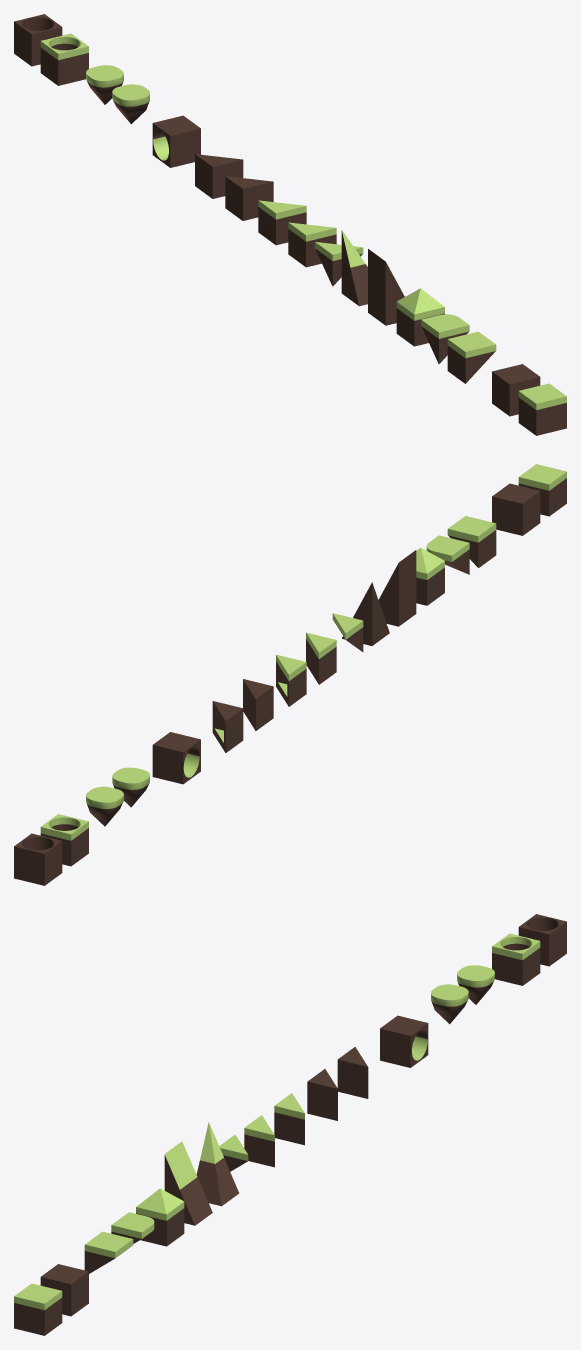
File: Tiles 02.dae
3 views of the same model, one above another, from view 1: azimuth 30°, elevation 25°; view 2: azimuth 150°, elevation 25°; view 3: azimuth 330°, elevation 25° (orthographic).
Parts seen in each view (by area): view 1: 01 Ground Base -col, 13 Ground Hole -col, 10 Ground Block Hollow -col, 05 Wall Slanted -col, 02 Ground Edge -col, 04 Ground Spike -col, 09 Ground Triangle Block -col, 01b Ground Block -col, 14 Ground Block Hole -col, 09b Ground Triangle Block Hollow -col, 09b Ground Triangle Hollow -col.001, 08 Ground Trinagle 2 -col (+5 smaller); view 2: 14 Ground Block Hole -col, 10 Ground Block Hollow -col, 01b Ground Block -col, 05 Wall Slanted -col, 01 Ground Base -col, 13 Ground Hole -col, 02 Ground Edge -col, 04 Ground Spike -col, 09b Ground Triangle Block Hollow -col, 08 Ground Trinagle 2 -col, 09 Ground Triangle Block -col, 09b Ground Triangle Hollow -col.001 (+5 smaller); view 3: 05 Wall Slanted -col, 01 Ground Base -col, 10 Ground Block Hollow -col, 13 Ground Hole -col, 06 Wall Slanted Corner -col, 04 Ground Spike -col, 01b Ground Block -col, 14 Ground Block Hole -col, 09b Ground Triangle Block Hollow -col, 09 Ground Triangle Block -col, 09b Ground Triangle Hollow -col.001, 02 Ground Edge -col (+5 smaller).
Part boxes in pixels (<box>): 01 Ground Base -col: <box>518,383,566,435</box>; 13 Ground Hole -col: <box>40,33,88,85</box>; 10 Ground Block Hollow -col: <box>152,115,200,167</box>; 05 Wall Slanted -col: <box>368,249,404,325</box>; 02 Ground Edge -col: <box>447,331,496,383</box>; 04 Ground Spike -col: <box>396,288,444,346</box>; 09 Ground Triangle Block -col: <box>225,176,273,220</box>; 01b Ground Block -col: <box>492,364,540,416</box>; 14 Ground Block Hole -col: <box>14,14,62,66</box>; 09b Ground Triangle Block Hollow -col: <box>195,154,243,198</box>; 09b Ground Triangle Hollow -col.001: <box>258,200,306,245</box>; 08 Ground Trinagle 2 -col: <box>288,222,336,267</box>; 14 Ground Block Hole -col: <box>14,833,62,885</box>; 10 Ground Block Hollow -col: <box>152,732,200,784</box>; 01b Ground Block -col: <box>492,483,540,535</box>; 05 Wall Slanted -col: <box>378,550,416,626</box>; 01 Ground Base -col: <box>518,464,566,516</box>; 13 Ground Hole -col: <box>40,814,88,866</box>; 02 Ground Edge -col: <box>447,516,496,567</box>; 04 Ground Spike -col: <box>416,547,444,605</box>; 09b Ground Triangle Block Hollow -col: <box>212,701,243,752</box>; 08 Ground Trinagle 2 -col: <box>306,632,336,684</box>; 09 Ground Triangle Block -col: <box>243,679,273,730</box>; 09b Ground Triangle Hollow -col.001: <box>276,654,306,706</box>; 05 Wall Slanted -col: <box>164,1141,212,1225</box>; 01 Ground Base -col: <box>14,1283,62,1335</box>; 10 Ground Block Hollow -col: <box>380,1015,428,1067</box>; 13 Ground Hole -col: <box>492,933,540,985</box>; 06 Wall Slanted Corner -col: <box>196,1122,239,1206</box>; 04 Ground Spike -col: <box>136,1188,184,1246</box>; 01b Ground Block -col: <box>40,1264,88,1316</box>; 14 Ground Block Hole -col: <box>518,914,566,966</box>; 09b Ground Triangle Block Hollow -col: <box>337,1047,368,1098</box>; 09 Ground Triangle Block -col: <box>307,1069,337,1120</box>; 09b Ground Triangle Hollow -col.001: <box>274,1093,304,1145</box>; 02 Ground Edge -col: <box>84,1231,133,1273</box>.
Bounding box in the file's own units: 2 × 59 × 4.
